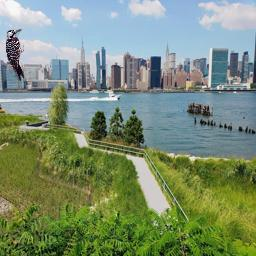Woodpecker: (6, 29, 24, 81)
